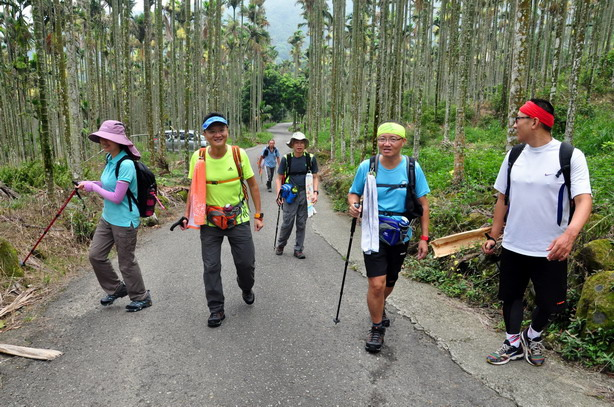people: (490, 99, 591, 362), (356, 121, 430, 346), (194, 117, 263, 329), (88, 120, 154, 312), (274, 130, 319, 257), (258, 139, 279, 190)
